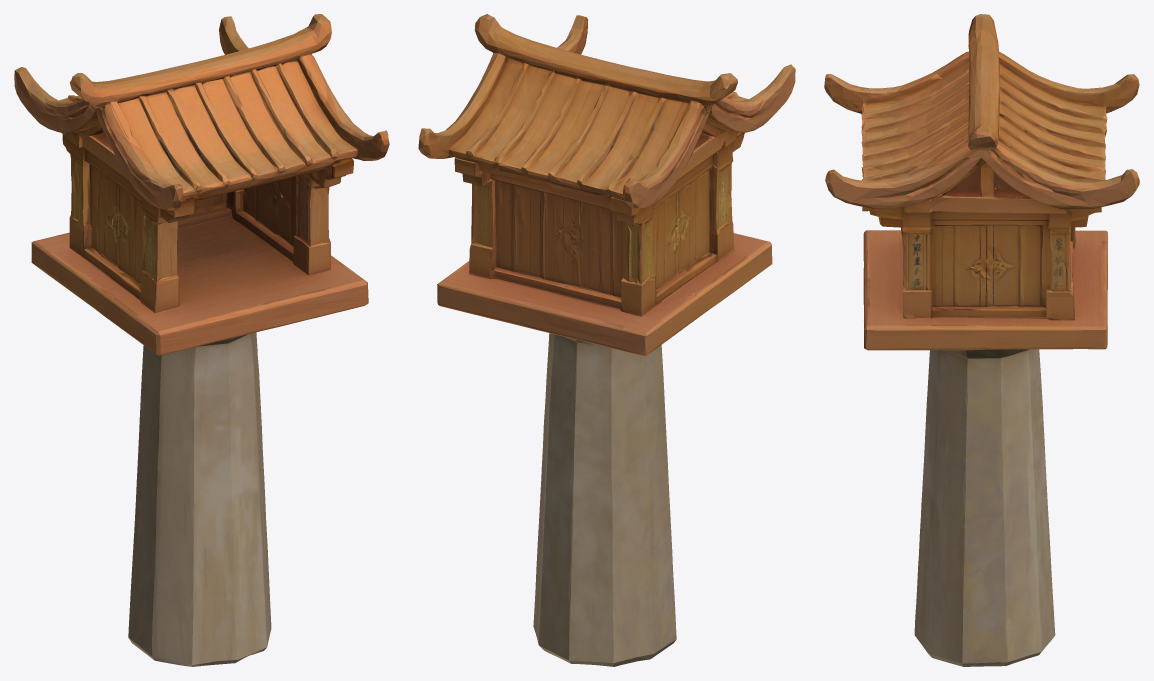
The model's file is stone_pillar_0503083223_texture.fbx.
3 renders of one model, left to right at view 1: azimuth 30°, elevation 25°; view 2: azimuth 150°, elevation 25°; view 3: azimuth 270°, elevation 25°, orthographic. The views are drawn at different scales.
Parts seen in each view (by area): view 1: temp; view 2: temp; view 3: temp.
Boxes of the visible parts, bbox=[...] form: temp: bbox=[14, 14, 389, 666]; temp: bbox=[418, 14, 795, 666]; temp: bbox=[824, 14, 1139, 666].
Size of the model in its own units: 89.2 by 200 by 100.
1 material, 1 textured.
